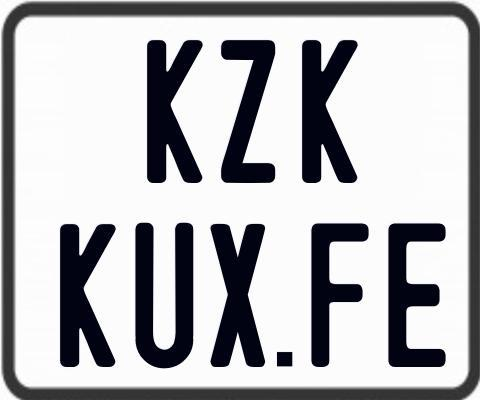E: (387, 221, 449, 370)
F: (310, 220, 371, 365)
K: (147, 37, 207, 184), (59, 222, 117, 368), (302, 37, 360, 181)
U: (134, 222, 192, 371)
X: (210, 221, 265, 366)
Z: (218, 39, 276, 188)
